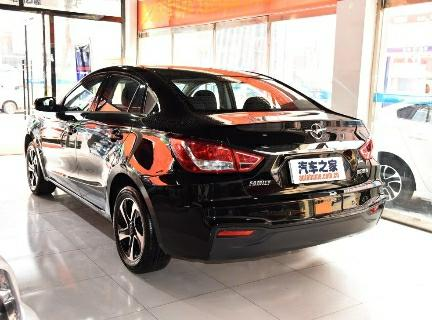car: (21, 55, 394, 272)
